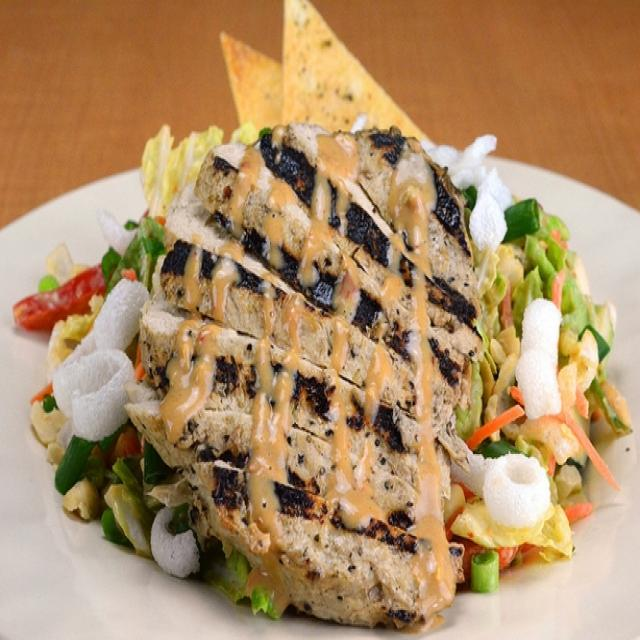鸡肉料理 含炸鸡: (39, 43, 604, 613)
